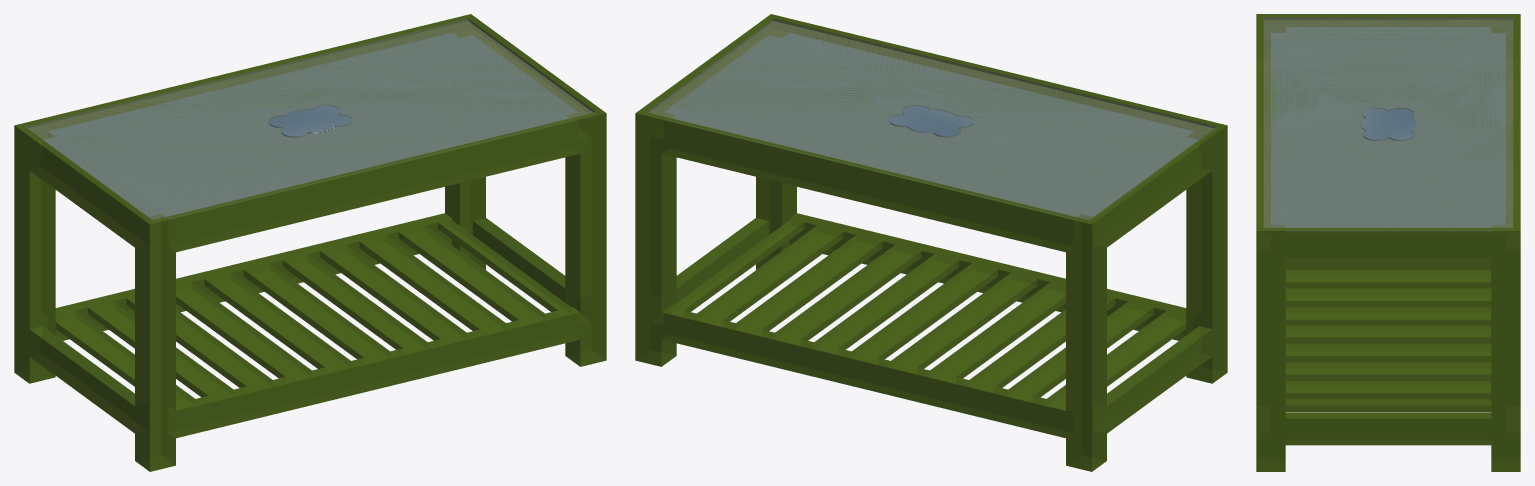
3 views of the same model, side by side, from view 1: azimuth 30°, elevation 25°; view 2: azimuth 150°, elevation 25°; view 3: azimuth 270°, elevation 25° (orthographic). The views are drawn at different scales.
Visible parts, largest first — view 1: SketchUp (×4); view 2: SketchUp (×4); view 3: SketchUp (×4).
Boxes of the visible parts, x1,y1,x2,y2 form: SketchUp (×4): [14, 14, 606, 471]; SketchUp (×4): [635, 14, 1227, 471]; SketchUp (×4): [1256, 14, 1520, 471].
Size of the model in its own units: 35 by 18 by 18.12.
